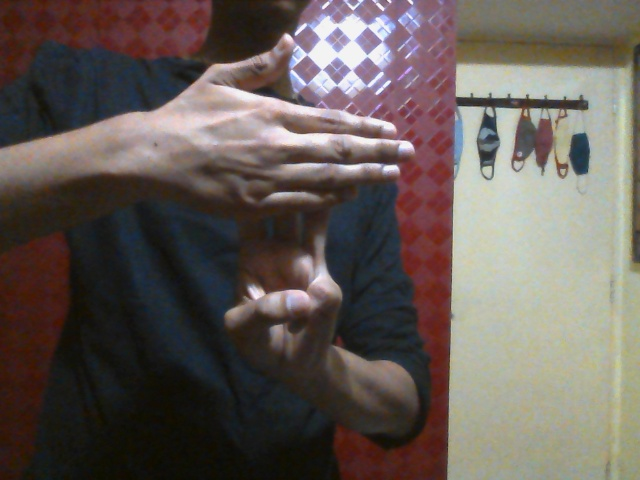M: (162, 32, 416, 381)
